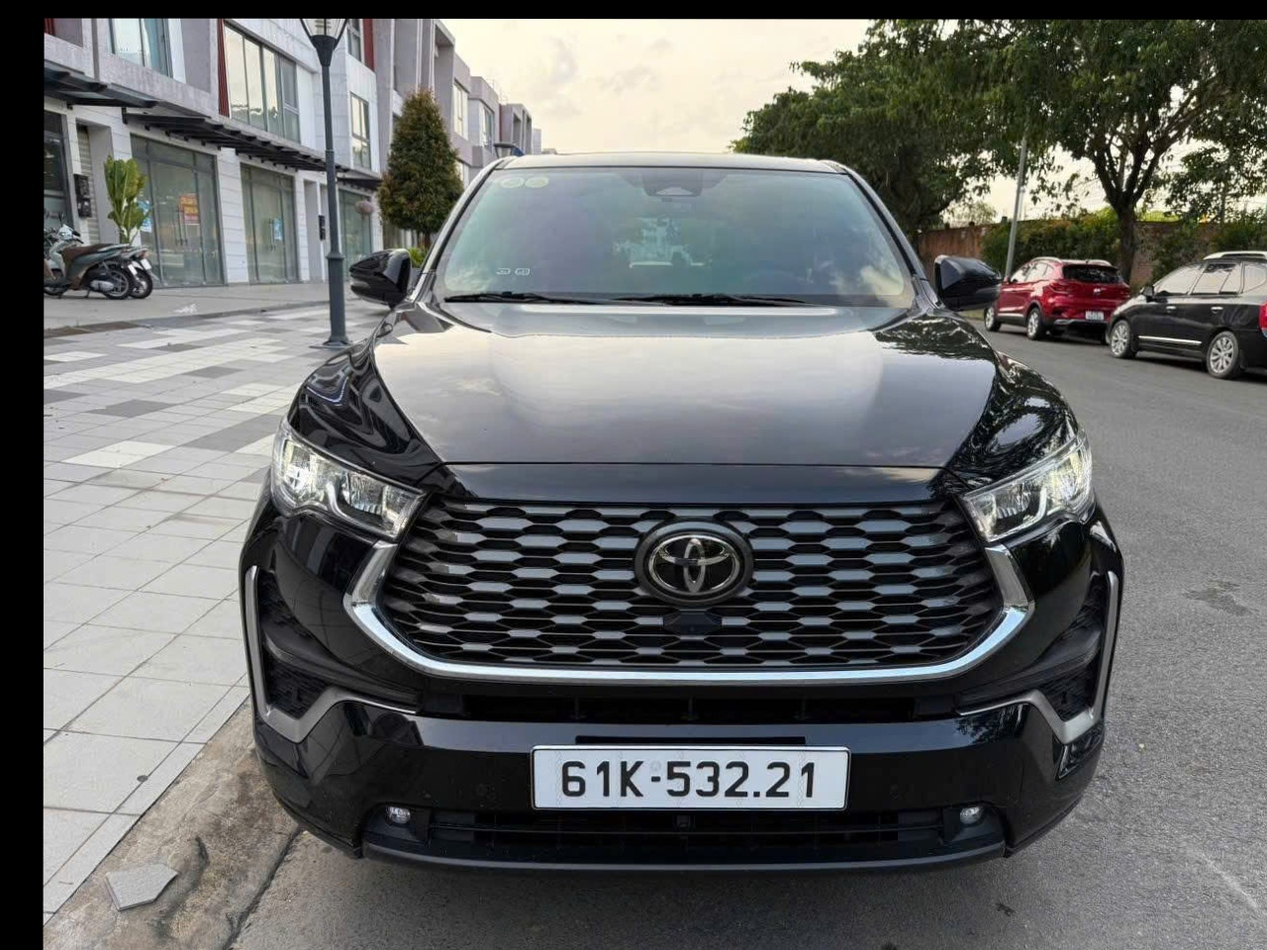Bien-so: (531, 743, 854, 813)
